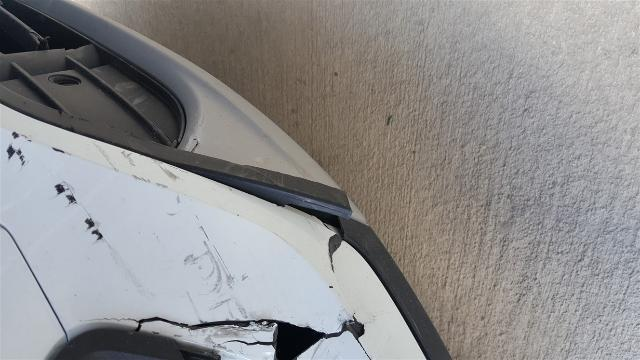crack: (222, 314, 375, 360), (135, 319, 274, 334), (152, 121, 183, 150), (80, 315, 137, 325), (329, 234, 342, 272), (189, 134, 200, 153)
dislocated part: (146, 154, 349, 242)
scratch: (104, 240, 153, 300), (91, 140, 118, 171), (5, 143, 24, 166), (6, 143, 15, 159), (91, 229, 102, 240), (53, 184, 65, 194), (84, 218, 94, 229), (65, 194, 76, 204), (51, 147, 69, 153), (17, 133, 30, 141), (11, 131, 18, 139)
